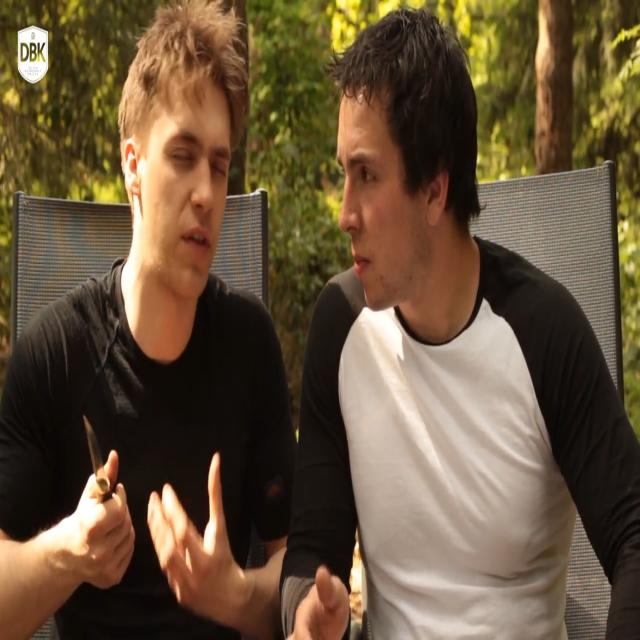knife: (83, 414, 111, 505)
